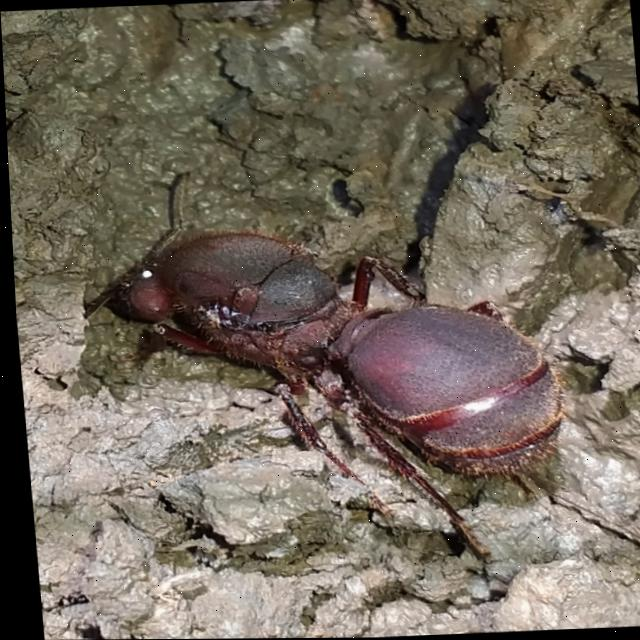Alive-Female-Dealate: (68, 156, 571, 577)
